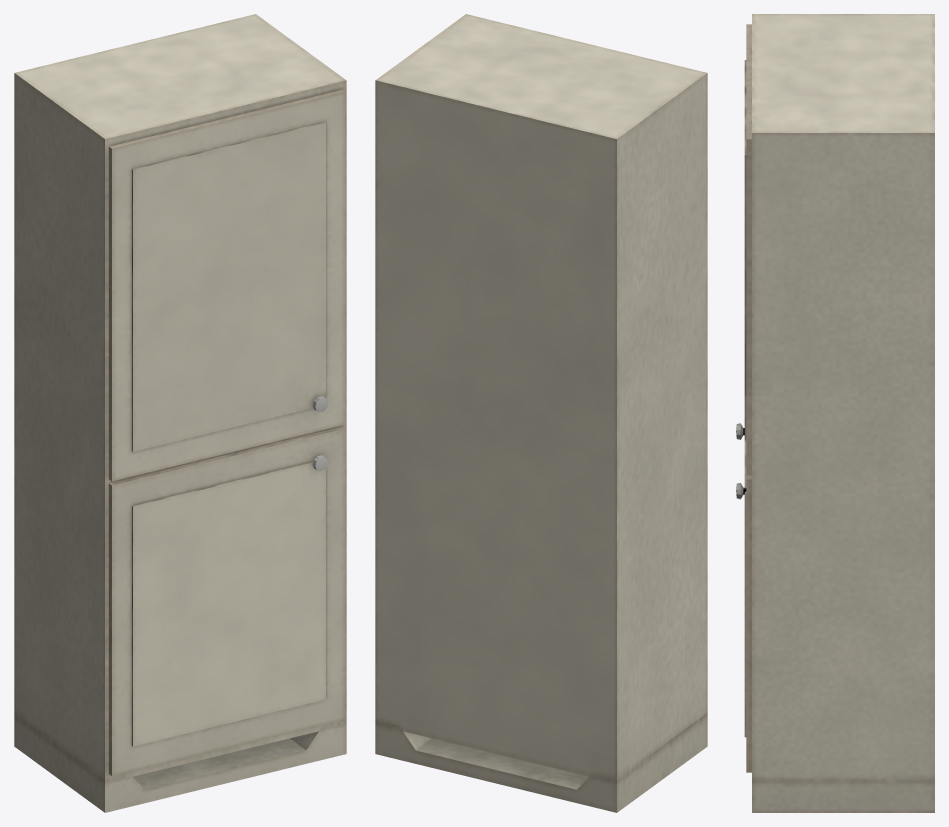
File: H_TallCabinet.fbx
The picture shows the model from 3 angles, left to right: view 1: azimuth 30°, elevation 25°; view 2: azimuth 150°, elevation 25°; view 3: azimuth 270°, elevation 25°; orthographic projection.
Parts seen in each view (by area): view 1: H_TallCabinet; view 2: H_TallCabinet; view 3: H_TallCabinet.
Part boxes in pixels (x1,y1,x2,y2): H_TallCabinet: (14, 14, 346, 812); H_TallCabinet: (375, 14, 707, 812); H_TallCabinet: (736, 14, 934, 812).
Size of the model in its own units: 300 by 800 by 212.
Materials: 1 (1 with a texture image).
